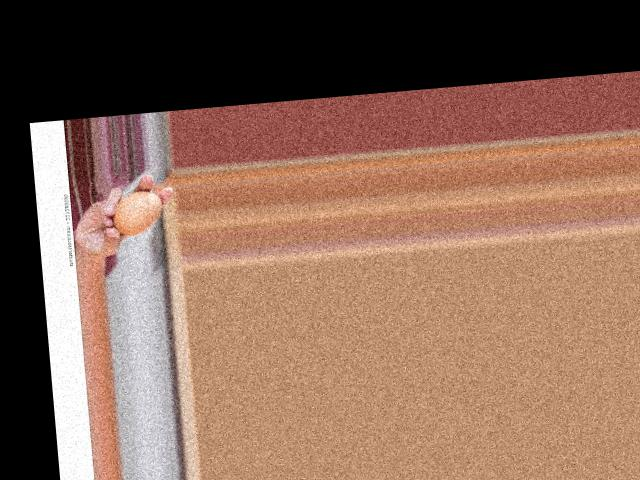egg: (111, 188, 163, 235)
